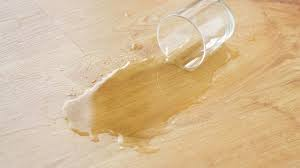Wet-floor: (56, 46, 243, 144), (113, 40, 250, 102)
